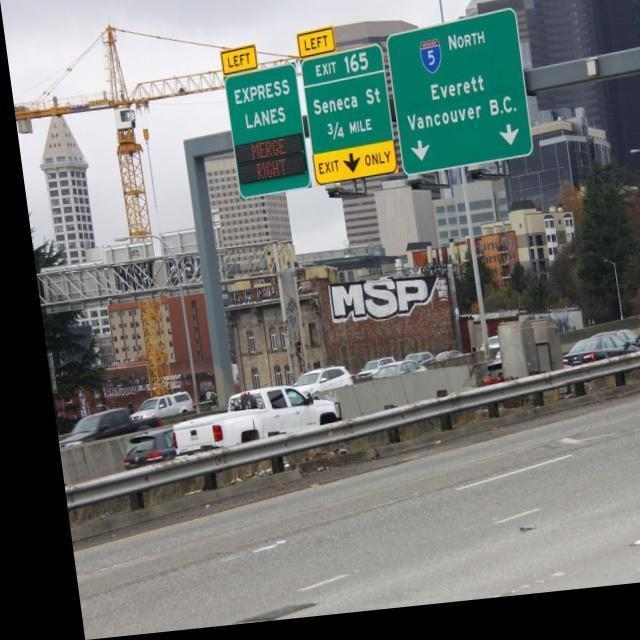nonspitting: (327, 274, 435, 324)
